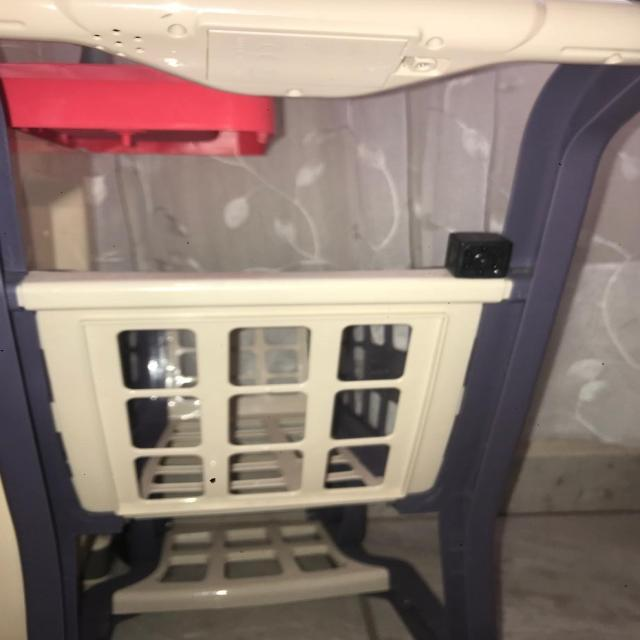hidden camera: (473, 254, 495, 269)
